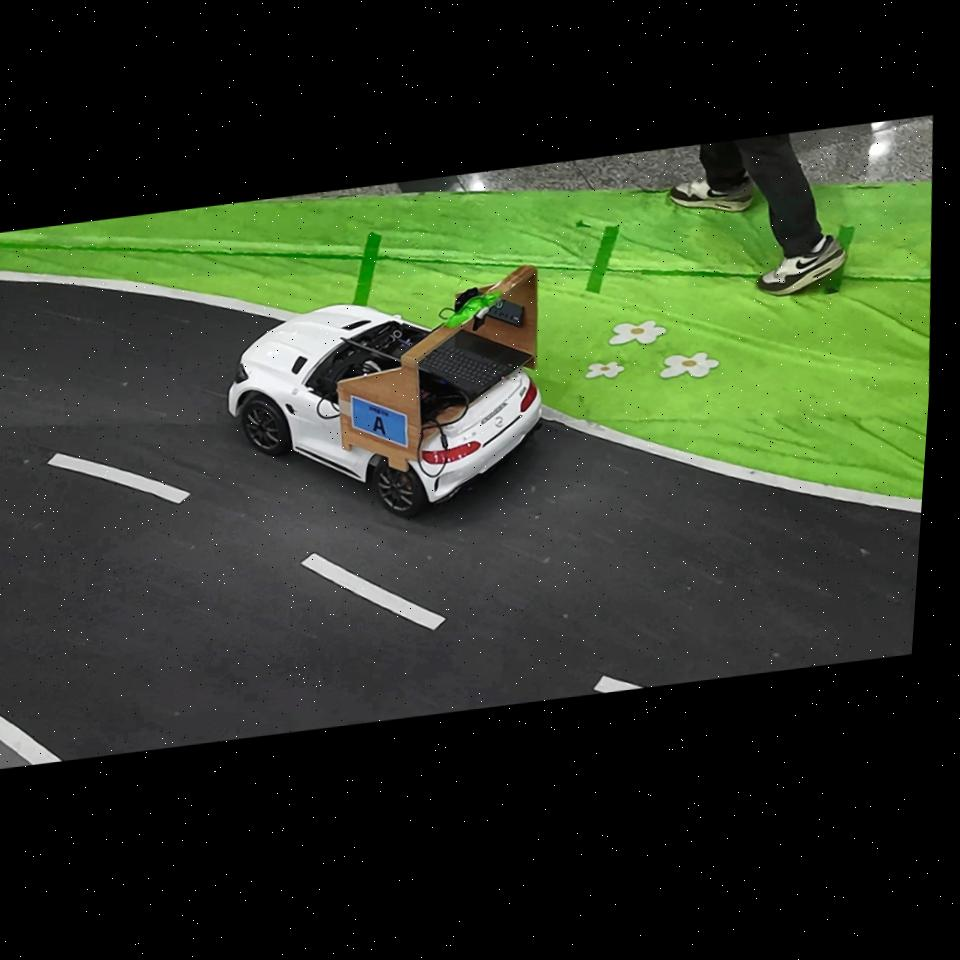broken_line: (301, 553, 444, 629), (48, 454, 190, 503), (595, 676, 643, 692)
